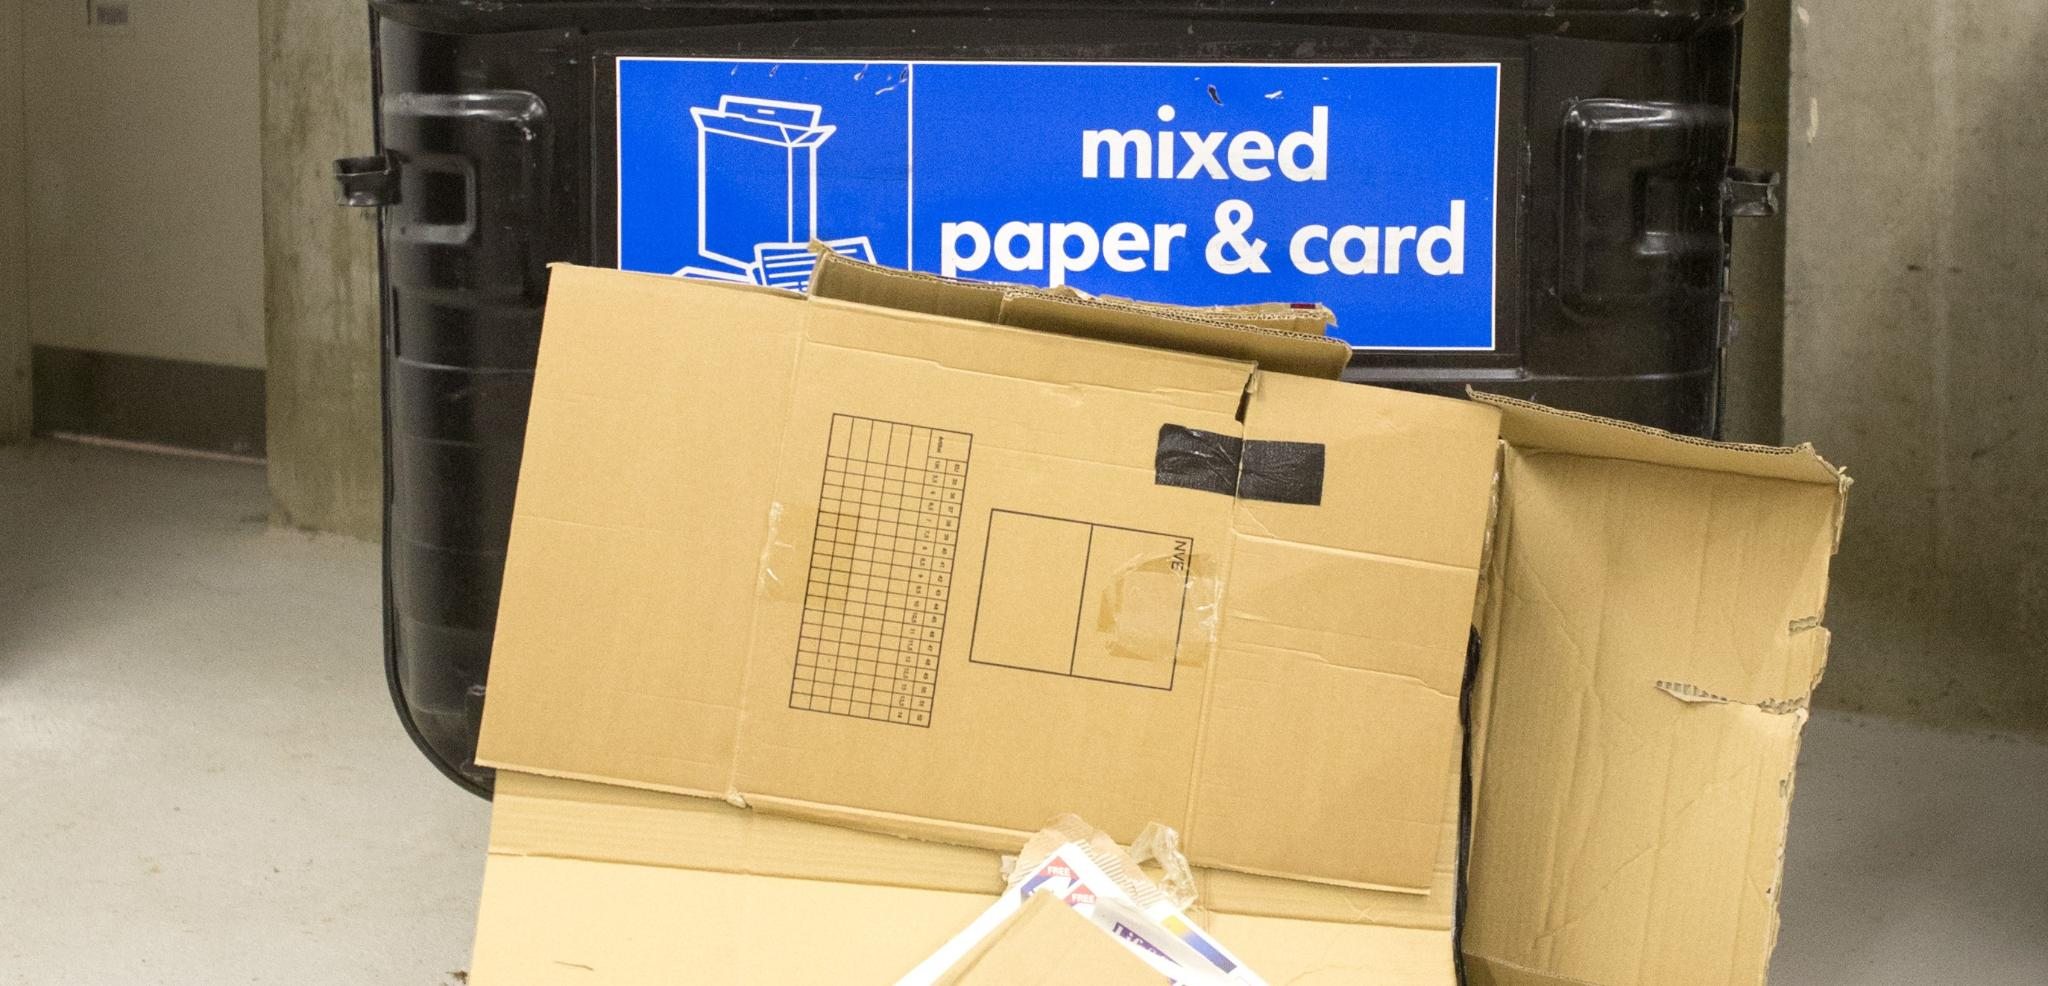cardboard: (411, 265, 1840, 985), (380, 30, 551, 791)
